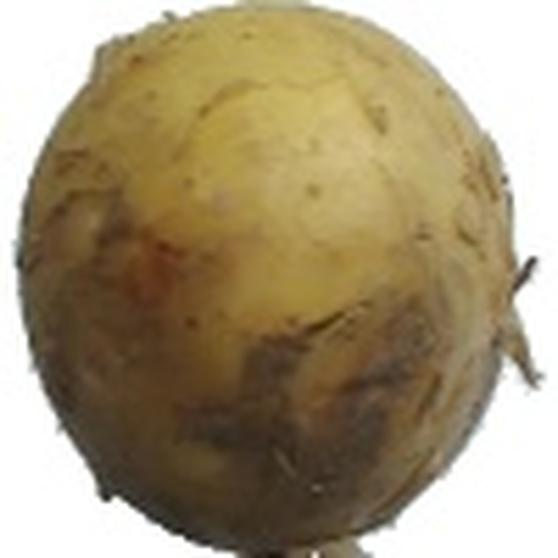potato: (18, 1, 545, 558)
